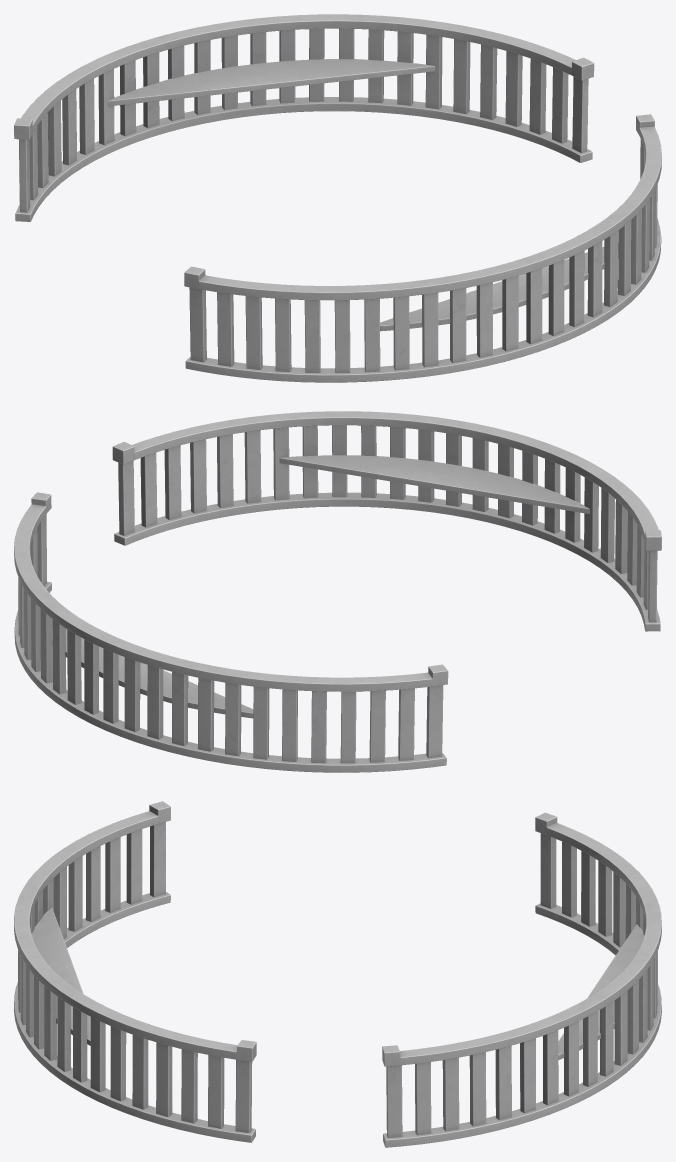
File: MunsterBenches.glb
3 views of the same model, one above another, from view 1: azimuth 30°, elevation 25°; view 2: azimuth 150°, elevation 25°; view 3: azimuth 270°, elevation 25° (orthographic).
Parts seen in each view (by area): view 1: polySurface3, polySurface4; view 2: polySurface4, polySurface3; view 3: polySurface3, polySurface4.
Part boxes in pixels (bbox=[...]): polySurface3: bbox=[14, 14, 594, 221]; polySurface4: bbox=[184, 114, 661, 382]; polySurface4: bbox=[112, 411, 661, 631]; polySurface3: bbox=[14, 492, 448, 772]; polySurface3: bbox=[382, 812, 661, 1147]; polySurface4: bbox=[14, 801, 256, 1142].
Size of the model in its own units: 7.44 by 1.32 by 8.09.
Materials: 1 (1 with a texture image).
